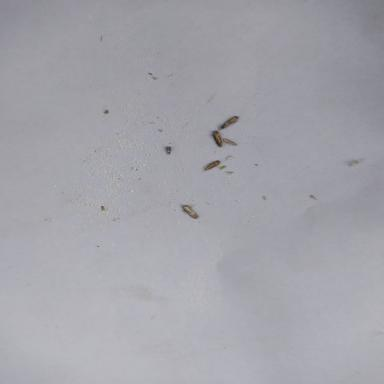pbw: (182, 204, 199, 218), (221, 116, 238, 128), (212, 130, 222, 146), (204, 160, 220, 170), (222, 138, 237, 146)
